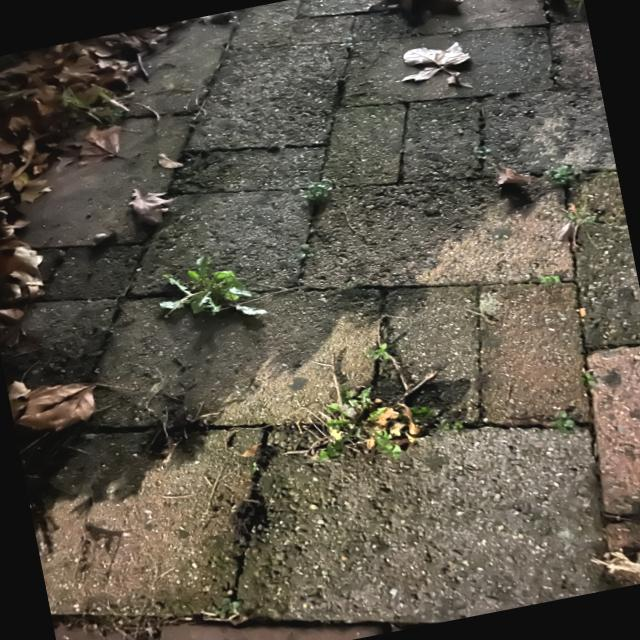leaves: (0, 31, 152, 308), (401, 34, 485, 94), (366, 0, 465, 28)
pavement: (290, 412, 602, 636), (49, 429, 310, 640), (164, 8, 378, 167), (263, 186, 487, 337), (220, 92, 488, 190)
weed: (307, 378, 401, 480), (553, 205, 595, 238)
